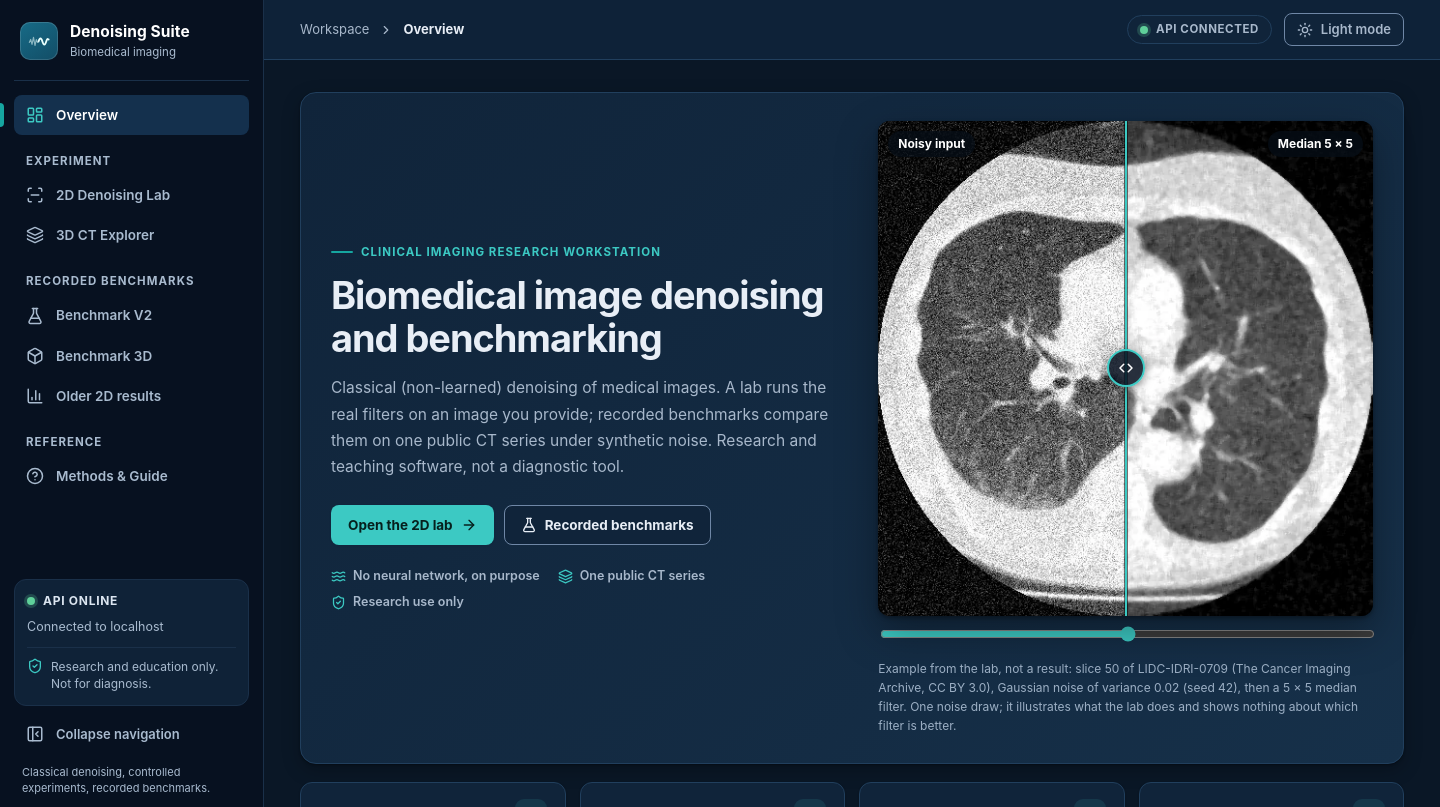
Test: application shell › states the benchmark status without inventing results
The image size is (1440, 807).
Click the button "Older 2D results" at point(132, 396), box [14,376,249,416]
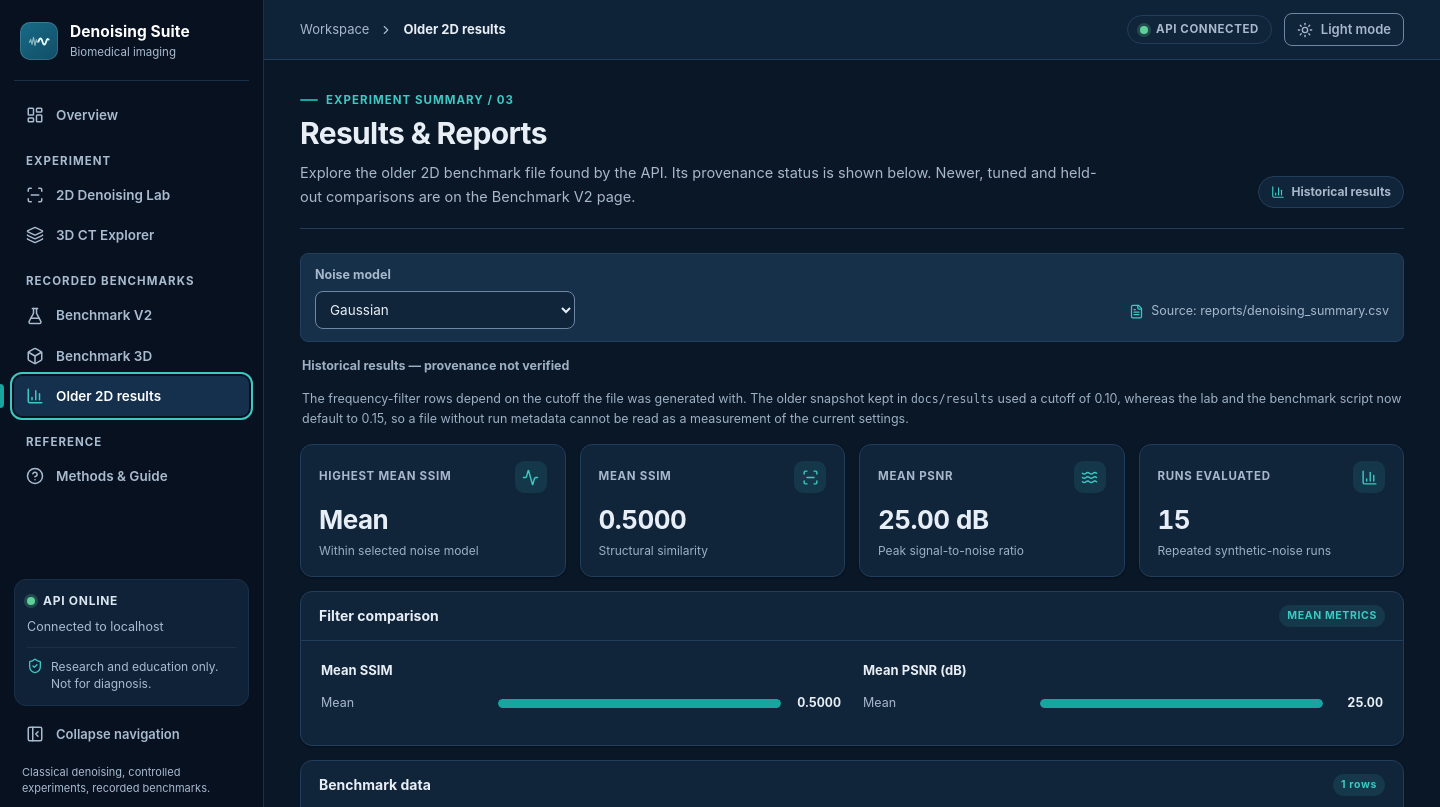
Expected: the message with test id "provenance-banner" reads "Historical results — provenance not verified", [302,358,569,373]
